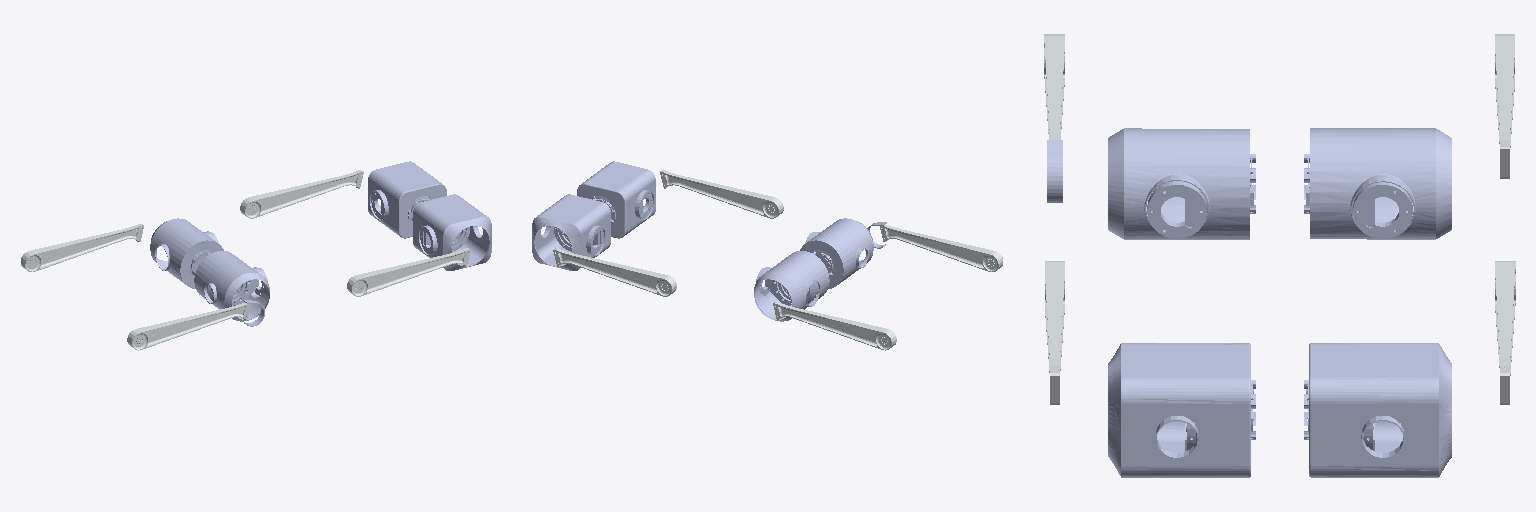
--- What the picture shows (computed from the rendered views, not written in the file) ---
3 views of the same robot in one strip: view 1: azimuth 30°, elevation 25°; view 2: azimuth 150°, elevation 25°; view 3: azimuth 270°, elevation 25° (orthographic).
Robot: stoch3_springv3 — 21 links, 20 joints (12 revolute, 4 prismatic, 4 fixed); root link base_link; default pose: all joints at 0.
Visible links, largest first — view 1: fr_abd_link, fl_abd_link, br_abd_link, bl_abd_link, fr_lower_leg_link, fl_lower_leg_link, bl_lower_leg_link, br_lower_leg_link; view 2: fl_abd_link, fr_abd_link, bl_abd_link, br_abd_link, fl_lower_leg_link, fr_lower_leg_link, bl_lower_leg_link, br_lower_leg_link; view 3: fl_abd_link, fr_abd_link, bl_abd_link, br_abd_link, fl_lower_leg_link, bl_lower_leg_link, fr_lower_leg_link, br_lower_leg_link, br_spring_link.
Link boxes in pixels (x1=…): fr_abd_link: x1=413, y1=194, x2=491, y2=270; fl_abd_link: x1=368, y1=161, x2=446, y2=238; br_abd_link: x1=194, y1=251, x2=269, y2=321; bl_abd_link: x1=150, y1=218, x2=223, y2=288; fr_lower_leg_link: x1=347, y1=248, x2=470, y2=296; fl_lower_leg_link: x1=240, y1=170, x2=363, y2=218; bl_lower_leg_link: x1=21, y1=224, x2=143, y2=271; br_lower_leg_link: x1=127, y1=303, x2=250, y2=350; fl_abd_link: x1=532, y1=194, x2=610, y2=270; fr_abd_link: x1=577, y1=161, x2=655, y2=238; bl_abd_link: x1=754, y1=251, x2=829, y2=321; br_abd_link: x1=800, y1=218, x2=873, y2=288; fl_lower_leg_link: x1=553, y1=248, x2=676, y2=296; fr_lower_leg_link: x1=660, y1=170, x2=783, y2=218; bl_lower_leg_link: x1=773, y1=302, x2=896, y2=350; br_lower_leg_link: x1=880, y1=224, x2=1002, y2=271; fl_abd_link: x1=1304, y1=343, x2=1451, y2=477; fr_abd_link: x1=1108, y1=343, x2=1255, y2=477; bl_abd_link: x1=1304, y1=128, x2=1451, y2=239; br_abd_link: x1=1108, y1=128, x2=1255, y2=239; fl_lower_leg_link: x1=1495, y1=261, x2=1515, y2=402; bl_lower_leg_link: x1=1495, y1=34, x2=1514, y2=176; fr_lower_leg_link: x1=1045, y1=261, x2=1064, y2=402; br_lower_leg_link: x1=1044, y1=34, x2=1064, y2=139; br_spring_link: x1=1047, y1=140, x2=1062, y2=202.
Bounding box of the posed robot: 0.9039 × 0.4576 × 0.1079 m (x, y, z).
13 mesh visuals loaded from 21 distinct referenced files (13 binary STL); not drawn: 8 (reference not matched to a file when rendering).

The robot description file, URDF, robot "stoch3_springv3":
<?xml version="1.0" encoding="utf-8"?>
<!-- This URDF was automatically created by SolidWorks to URDF Exporter! Originally created by Stephen Brawner ([email redacted]) 
     Commit Version: 1.5.1-0-g916b5db  Build Version: 1.5.7152.31018
     For more information, please see http://wiki.ros.org/sw_urdf_exporter -->
<robot
  name="stoch3_springv3">
  <link
    name="base_link">
    <inertial>
      <origin
        xyz="0 0 0.0026538"
        rpy="0 0 0" />
      <mass
        value="7.302" />
      <inertia
        ixx="0.0090197"
        ixy="2.2679E-06"
        ixz="6.4897E-05"
        iyy="0.0094033"
        iyz="-2.1628E-08"
        izz="0.01573" />
    </inertial>
    <visual>
      <origin
        xyz="0 0 0"
        rpy="0 0 0" />
      <geometry>
        <mesh
          filename="package://stoch3_springv3/meshes/base_link.STL" />
      </geometry>
      <material
        name="">
        <color
          rgba="0.75294 0.75294 0.75294 1" />
      </material>
    </visual>
    <collision>
      <origin
        xyz="0 0 0"
        rpy="0 0 0" />
      <geometry>
        <mesh
          filename="package://stoch3_springv3/meshes/base_link.STL" />
      </geometry>
    </collision>
  </link>

  <link
    name="fl_abd_link">
    <inertial>
      <origin
        xyz="0.070269 -0.036118 -2.5986E-07"
        rpy="0 0 0" />
      <mass
        value="0.978" />
      <inertia
        ixx="0.00045941"
        ixy="-6.723E-07"
        ixz="3.3247E-08"
        iyy="0.00059328"
        iyz="5.8809E-09"
        izz="0.00046214" />
    </inertial>
    <visual>
      <origin
        xyz="0 0 0"
        rpy="0 0 0" />
      <geometry>
        <mesh
          filename="package://stoch3_springv3/meshes/fl_abd_link.STL" />
      </geometry>
      <material
        name="">
        <color
          rgba="0.79216 0.81961 0.93333 1" />
      </material>
    </visual>
    <collision>
      <origin
        xyz="0 0 0"
        rpy="0 0 0" />
      <geometry>
        <mesh
          filename="package://stoch3_springv3/meshes/fl_abd_link.STL" />
      </geometry>
    </collision>
  </link>
  <joint
    name="fl_abd_joint"
    type="revolute">
    <origin
      xyz="0.18598 0.10004 -0.0005"
      rpy="0 0 0.00021134" />
    <parent
      link="base_link" />
    <child
      link="fl_abd_link" />
    <axis
      xyz="1 0 0" />
    <limit
      lower="-3.5708"
      upper="3.5708"
      effort="100"
      velocity="100" />
  </joint>
  <link
    name="fl_upper_leg_link">
    <inertial>
      <origin
        xyz="-0.072527 0.076425 1.3632E-05"
        rpy="0 0 0" />
      <mass
        value="1.547" />
      <inertia
        ixx="0.00031538"
        ixy="-4.0486E-06"
        ixz="-4.8939E-07"
        iyy="0.0031011"
        iyz="6.3718E-11"
        izz="0.0028703" />
    </inertial>
    <visual>
      <origin
        xyz="0 0 0"
        rpy="0 0 0" />
      <geometry>
        <mesh
          filename="package://stoch3_springv3/meshes/fl_upper_leg_link.STL" />
      </geometry>
      <material
        name="">
        <color
          rgba="0.79216 0.81961 0.93333 1" />
      </material>
    </visual>
    <collision>
      <origin
        xyz="0 0 0"
        rpy="0 0 0" />
      <geometry>
        <mesh
          filename="package://stoch3_springv3/meshes/fl_upper_leg_link.STL" />
      </geometry>
    </collision>
  </link>
  <joint
    name="fl_hip_joint"
    type="revolute">
    <origin
      xyz="0.074 -0.01975 0"
      rpy="0 0 0" />
    <parent
      link="fl_abd_link" />
    <child
      link="fl_upper_leg_link" />
    <axis
      xyz="0 -1 0" />
    <limit
      lower="-1.5708"
      upper="6.2832"
      effort="100"
      velocity="100" />
  </joint>
  <link
    name="fl_lower_leg_link">
    <inertial>
      <origin
        xyz="0.086252 5.8285E-07 0.0035444"
        rpy="0 0 0" />
      <mass
        value="0.185" />
      <inertia
        ixx="2.0675E-05"
        ixy="-2.4323E-09"
        ixz="-3.9572E-05"
        iyy="0.0010886"
        iyz="-8.8856E-10"
        izz="0.0010716" />
    </inertial>
    <visual>
      <origin
        xyz="0 0 0"
        rpy="0 0 0" />
      <geometry>
        <mesh
          filename="package://stoch3_springv3/meshes/fl_lower_leg_link.STL" />
      </geometry>
      <material
        name="">
        <color
          rgba="0.89804 0.91765 0.92941 1" />
      </material>
    </visual>
    <collision>
      <origin
        xyz="0 0 0"
        rpy="0 0 0" />
      <geometry>
        <mesh
          filename="package://stoch3_springv3/meshes/fl_lower_leg_link.STL" />
      </geometry>
    </collision>
  </link>
  <joint
    name="fl_knee_joint"
    type="revolute">
    <origin
      xyz="-0.297000000025889 0.1385 0"
      rpy="0 0 0" />
    <parent
      link="fl_upper_leg_link" />
    <child
      link="fl_lower_leg_link" />
    <axis
      xyz="0 1 0" />
    <limit
      lower="-6.28"
      upper="6.28"
      effort="100"
      velocity="100" />
  </joint>
  <link
    name="fl_spring_link">
    <inertial>
      <origin
        xyz="0.016432 -1.2088E-10 -0.025935"
        rpy="0 0 0" />
      <mass
        value="0.013" />
      <inertia
        ixx="1.5151E-06"
        ixy="3.6872E-16"
        ixz="7.9114E-08"
        iyy="2.0495E-06"
        iyz="-6.4647E-15"
        izz="6.6246E-07" />
    </inertial>
    <visual>
      <origin
        xyz="0 0 0"
        rpy="0 0 0" />
      <geometry>
        <mesh
          filename="package://stoch3_springv3/meshes/fl_spring_link.STL" />
      </geometry>
      <material
        name="">
        <color
          rgba="0.79216 0.81961 0.93333 1" />
      </material>
    </visual>
    <collision>
      <origin
        xyz="0 0 0"
        rpy="0 0 0" />
      <geometry>
        <mesh
          filename="package://stoch3_springv3/meshes/fl_spring_link.STL" />
      </geometry>
    </collision>
  </link>
  <joint
    name="fl_spring_joint"
    type="prismatic">
    <origin
      xyz="0.26294 0 0.022728"
      rpy="0 0 0" />
    <parent
      link="fl_lower_leg_link" />
    <child
      link="fl_spring_link" />
    <axis
      xyz="0.96487 0 -0.26274" />
    <limit
      lower="-0.05"
      upper="0"
      effort="100"
      velocity="100" />
  </joint>
  <link
    name="fl_end_effector_link">
    <inertial>
      <origin
        xyz="0.00030474 -7.6325E-12 -0.0016376"
        rpy="0 0 0" />
      <mass
        value="0.003" />
      <inertia
        ixx="1.2265E-09"
        ixy="1.4499E-19"
        ixz="3.1109E-11"
        iyy="3.2386E-10"
        iyz="4.7001E-18"
        izz="1.3323E-09" />
    </inertial>
    <visual>
      <origin
        xyz="0 0 0"
        rpy="0 0 0" />
      <geometry>
        <mesh
          filename="package://stoch3_springv3/meshes/fl_end_effector_link.STL" />
      </geometry>
      <material
        name="">
        <color
          rgba="0.79216 0.81961 0.93333 1" />
      </material>
    </visual>
    <collision>
      <origin
        xyz="0 0 0"
        rpy="0 0 0" />
      <geometry>
        <mesh
          filename="package://stoch3_springv3/meshes/fl_end_effector_link.STL" />
      </geometry>
    </collision>
  </link>
  <joint
    name="fl_end_effector_joint"
    type="fixed">
    <origin
      xyz="0.25316 0 -0.01044"
      rpy="0 0 0" />
    <parent
      link="fl_lower_leg_link" />
    <child
      link="fl_end_effector_link" />
    <axis
      xyz="0 0 0" />
  </joint>
  <link
    name="fr_abd_link">
    <inertial>
      <origin
        xyz="0.07027 0.036118 -2.957E-07"
        rpy="0 0 0" />
      <mass
        value="0.978" />
      <inertia
        ixx="0.00045941"
        ixy="6.965E-07"
        ixz="-3.3418E-08"
        iyy="0.00059328"
        iyz="-5.8773E-09"
        izz="0.00046214" />
    </inertial>
    <visual>
      <origin
        xyz="0 0 0"
        rpy="0 0 0" />
      <geometry>
        <mesh
          filename="package://stoch3_springv3/meshes/fr_abd_link.STL" />
      </geometry>
      <material
        name="">
        <color
          rgba="0.79216 0.81961 0.93333 1" />
      </material>
    </visual>
    <collision>
      <origin
        xyz="0 0 0"
        rpy="0 0 0" />
      <geometry>
        <mesh
          filename="package://stoch3_springv3/meshes/fr_abd_link.STL" />
      </geometry>
    </collision>
  </link>
  <joint
    name="fr_abd_joint"
    type="revolute">
    <origin
      xyz="0.18602 -0.099961 -0.0005"
      rpy="0 0 0.00021134" />
    <parent
      link="base_link" />
    <child
      link="fr_abd_link" />
    <axis
      xyz="1 0 0" />
    <limit
      lower="-3.5708"
      upper="3.5708"
      effort="100"
      velocity="100" />
  </joint>
  <link
    name="fr_upper_leg_link">
    <inertial>
      <origin
        xyz="-0.072527 -0.076425 -1.3632E-05"
        rpy="0 0 0" />
      <mass
        value="1.547" />
      <inertia
        ixx="0.00031538"
        ixy="4.0486E-06"
        ixz="4.8939E-07"
        iyy="0.0031011"
        iyz="6.3714E-11"
        izz="0.0028703" />
    </inertial>
    <visual>
      <origin
        xyz="0 0 0"
        rpy="0 0 0" />
      <geometry>
        <mesh
          filename="package://stoch3_springv3/meshes/fr_upper_leg_link.STL" />
      </geometry>
      <material
        name="">
        <color
          rgba="0.79216 0.81961 0.93333 1" />
      </material>
    </visual>
    <collision>
      <origin
        xyz="0 0 0"
        rpy="0 0 0" />
      <geometry>
        <mesh
          filename="package://stoch3_springv3/meshes/fr_upper_leg_link.STL" />
      </geometry>
    </collision>
  </link>
  <joint
    name="fr_hip_joint"
    type="revolute">
    <origin
      xyz="0.074 0.01975 0"
      rpy="0 0 0" />
    <parent
      link="fr_abd_link" />
    <child
      link="fr_upper_leg_link" />
    <axis
      xyz="0 -1 0" />
    <limit
      lower="-1.5708"
      upper="6.2832"
      effort="100"
      velocity="100" />
  </joint>
  <link
    name="fr_lower_leg_link">
    <inertial>
      <origin
        xyz="0.086252 5.8285E-07 0.0035444"
        rpy="0 0 0" />
      <mass
        value="0.185" />
      <inertia
        ixx="2.0675E-05"
        ixy="-2.4323E-09"
        ixz="-3.9572E-05"
        iyy="0.0010886"
        iyz="-8.8856E-10"
        izz="0.0010716" />
    </inertial>
    <visual>
      <origin
        xyz="0 0 0"
        rpy="0 0 0" />
      <geometry>
        <mesh
          filename="package://stoch3_springv3/meshes/fr_lower_leg_link.STL" />
      </geometry>
      <material
        name="">
        <color
          rgba="0.89804 0.91765 0.92941 1" />
      </material>
    </visual>
    <collision>
      <origin
        xyz="0 0 0"
        rpy="0 0 0" />
      <geometry>
        <mesh
          filename="package://stoch3_springv3/meshes/fr_lower_leg_link.STL" />
      </geometry>
    </collision>
  </link>
  <joint
    name="fr_knee_joint"
    type="revolute">
    <origin
      xyz="-0.297 -0.1385 0"
      rpy="0 0 0" />
    <parent
      link="fr_upper_leg_link" />
    <child
      link="fr_lower_leg_link" />
    <axis
      xyz="0 1 0" />
    <limit
      lower="-6.28"
      upper="6.28"
      effort="100"
      velocity="100" />
  </joint>
  <link
    name="fr_spring_link">
    <inertial>
      <origin
        xyz="0.016432 -1.2088E-10 -0.025935"
        rpy="0 0 0" />
      <mass
        value="0.013" />
      <inertia
        ixx="1.5151E-06"
        ixy="3.6872E-16"
        ixz="7.9114E-08"
        iyy="2.0495E-06"
        iyz="-6.4647E-15"
        izz="6.6246E-07" />
    </inertial>
    <visual>
      <origin
        xyz="0 0 0"
        rpy="0 0 0" />
      <geometry>
        <mesh
          filename="package://stoch3_springv3/meshes/fr_spring_link.STL" />
      </geometry>
      <material
        name="">
        <color
          rgba="0.79216 0.81961 0.93333 1" />
      </material>
    </visual>
    <collision>
      <origin
        xyz="0 0 0"
        rpy="0 0 0" />
      <geometry>
        <mesh
          filename="package://stoch3_springv3/meshes/fr_spring_link.STL" />
      </geometry>
    </collision>
  </link>
  <joint
    name="fr_spring_joint"
    type="prismatic">
    <origin
      xyz="0.26294023218503 0 0.0227277371882955"
      rpy="0 0 0" />
    <parent
      link="fr_lower_leg_link" />
    <child
      link="fr_spring_link" />
    <axis
      xyz="0.964866586334683 0 -0.262740310144551" />
    <limit
      lower="-0.05"
      upper="0"
      effort="100"
      velocity="100" />
  </joint>
  <link
    name="fr_end_effector_link">
    <inertial>
      <origin
        xyz="0.00030474 -7.6323E-12 -0.0016376"
        rpy="0 0 0" />
      <mass
        value="0.003" />
      <inertia
        ixx="1.2265E-09"
        ixy="1.4499E-19"
        ixz="3.1109E-11"
        iyy="3.2386E-10"
        iyz="4.7001E-18"
        izz="1.3323E-09" />
    </inertial>
    <visual>
      <origin
        xyz="0 0 0"
        rpy="0 0 0" />
      <geometry>
        <mesh
          filename="package://stoch3_springv3/meshes/fr_end_effector_link.STL" />
      </geometry>
      <material
        name="">
        <color
          rgba="0.79216 0.81961 0.93333 1" />
      </material>
    </visual>
    <collision>
      <origin
        xyz="0 0 0"
        rpy="0 0 0" />
      <geometry>
        <mesh
          filename="package://stoch3_springv3/meshes/fr_end_effector_link.STL" />
      </geometry>
    </collision>
  </link>
  <joint
    name="fr_end_effector_joint"
    type="fixed">
    <origin
      xyz="0.25316 0 -0.01044"
      rpy="0 0 0" />
    <parent
      link="fr_lower_leg_link" />
    <child
      link="fr_end_effector_link" />
    <axis
      xyz="0 0 0" />
  </joint>
  <link
    name="bl_abd_link">
    <inertial>
      <origin
        xyz="-0.069942 -0.037337 -1.868E-06"
        rpy="0 0 0" />
      <mass
        value="0.978" />
      <inertia
        ixx="0.00039025"
        ixy="3.5854E-08"
        ixz="1.1626E-07"
        iyy="0.00050148"
        iyz="5.3875E-09"
        izz="0.00037524" />
    </inertial>
    <visual>
      <origin
        xyz="0 0 0"
        rpy="0 0 0" />
      <geometry>
        <mesh
          filename="package://stoch3_springv3/meshes/bl_abd_link.STL" />
      </geometry>
      <material
        name="">
        <color
          rgba="0.79216 0.81961 0.93333 1" />
      </material>
    </visual>
    <collision>
      <origin
        xyz="0 0 0"
        rpy="0 0 0" />
      <geometry>
        <mesh
          filename="package://stoch3_springv3/meshes/bl_abd_link.STL" />
      </geometry>
    </collision>
  </link>
  <joint
    name="bl_abd_joint"
    type="revolute">
    <origin
      xyz="-0.18602 0.099961 -0.0005"
      rpy="0 0 0" />
    <parent
      link="base_link" />
    <child
      link="bl_abd_link" />
    <axis
      xyz="-1 -0.00021136 0" />
    <limit
      lower="-3.5708"
      upper="3.5708"
      effort="100"
      velocity="100" />
  </joint>
  <link
    name="bl_upper_leg_link">
    <inertial>
      <origin
        xyz="-0.072543 0.076409 1.3632E-05"
        rpy="0 0 0" />
      <mass
        value="1.547" />
      <inertia
        ixx="0.00031539"
        ixy="-4.6374E-06"
        ixz="-4.8939E-07"
        iyy="0.0031011"
        iyz="-3.9719E-11"
        izz="0.0028703" />
    </inertial>
    <visual>
      <origin
        xyz="0 0 0"
        rpy="0 0 0" />
      <geometry>
        <mesh
          filename="package://stoch3_springv3/meshes/bl_upper_leg_link.STL" />
      </geometry>
      <material
        name="">
        <color
          rgba="0.79216 0.81961 0.93333 1" />
      </material>
    </visual>
    <collision>
      <origin
        xyz="0 0 0"
        rpy="0 0 0" />
      <geometry>
        <mesh
          filename="package://stoch3_springv3/meshes/bl_upper_leg_link.STL" />
      </geometry>
    </collision>
  </link>
  <joint
    name="bl_hip_joint"
    type="revolute">
    <origin
      xyz="-0.073996 -0.019766 0"
      rpy="0 0 0" />
    <parent
      link="bl_abd_link" />
    <child
      link="bl_upper_leg_link" />
    <axis
      xyz="0.00021136 -1 0" />
    <limit
      lower="-1.5708"
      upper="6.2832"
      effort="100"
      velocity="100" />
  </joint>
  <link
    name="bl_lower_leg_link">
    <inertial>
      <origin
        xyz="0.086252 1.8813E-05 0.0035444"
        rpy="0 0 0" />
      <mass
        value="0.185" />
      <inertia
        ixx="2.0675E-05"
        ixy="-2.2814E-07"
        ixz="-3.9572E-05"
        iyy="0.0010886"
        iyz="-9.2525E-09"
        izz="0.0010716" />
    </inertial>
    <visual>
      <origin
        xyz="0 0 0"
        rpy="0 0 0" />
      <geometry>
        <mesh
          filename="package://stoch3_springv3/meshes/bl_lower_leg_link.STL" />
      </geometry>
      <material
        name="">
        <color
          rgba="0.89804 0.91765 0.92941 1" />
      </material>
    </visual>
    <collision>
      <origin
        xyz="0 0 0"
        rpy="0 0 0" />
      <geometry>
        <mesh
          filename="package://stoch3_springv3/meshes/bl_lower_leg_link.STL" />
      </geometry>
    </collision>
  </link>
  <joint
    name="bl_knee_joint"
    type="revolute">
    <origin
      xyz="-0.29703 0.13844 0"
      rpy="0 0 0" />
    <parent
      link="bl_upper_leg_link" />
    <child
      link="bl_lower_leg_link" />
    <axis
      xyz="-0.00021136 1 0" />
    <limit
      lower="-6.28"
      upper="6.28"
      effort="100"
      velocity="100" />
  </joint>
  <link
    name="bl_spring_link">
    <inertial>
      <origin
        xyz="0.016432 3.4731E-06 -0.025935"
        rpy="0 0 0" />
      <mass
        value="0.013" />
      <inertia
        ixx="1.5151E-06"
        ixy="-1.1295E-10"
        ixz="7.9114E-08"
        iyy="2.0495E-06"
        iyz="1.6715E-11"
        izz="6.6246E-07" />
    </inertial>
    <visual>
      <origin
        xyz="0 0 0"
        rpy="0 0 0" />
      <geometry>
        <mesh
          filename="package://stoch3_springv3/meshes/bl_spring_link.STL" />
      </geometry>
      <material
        name="">
        <color
          rgba="0.79216 0.81961 0.93333 1" />
      </material>
    </visual>
    <collision>
      <origin
        xyz="0 0 0"
        rpy="0 0 0" />
      <geometry>
        <mesh
          filename="package://stoch3_springv3/meshes/bl_spring_link.STL" />
      </geometry>
    </collision>
  </link>
  <joint
    name="bl_spring_joint"
    type="prismatic">
    <origin
      xyz="0.26294 5.5576E-05 0.022728"
      rpy="0 0 0" />
    <parent
      link="bl_lower_leg_link" />
    <child
      link="bl_spring_link" />
    <axis
      xyz="0.96487 0.00020393 -0.26274" />
    <limit
      lower="-0.05"
      upper="0"
      effort="100"
      velocity="100" />
  </joint>
  <link
    name="bl_end_effector_link">
    <inertial>
      <origin
        xyz="0.00030474 -7.6322E-12 -0.0016376"
        rpy="0 0 0" />
      <mass
        value="0.003" />
      <inertia
        ixx="1.2265E-09"
        ixy="1.4499E-19"
        ixz="3.1109E-11"
        iyy="3.2386E-10"
        iyz="4.7001E-18"
        izz="1.3323E-09" />
    </inertial>
    <visual>
      <origin
        xyz="0 0 0"
        rpy="0 0 0" />
      <geometry>
        <mesh
          filename="package://stoch3_springv3/meshes/bl_end_effector_link.STL" />
      </geometry>
      <material
        name="">
        <color
          rgba="0.79216 0.81961 0.93333 1" />
      </material>
    </visual>
    <collision>
      <origin
        xyz="0 0 0"
        rpy="0 0 0" />
      <geometry>
        <mesh
          filename="package://stoch3_springv3/meshes/bl_end_effector_link.STL" />
      </geometry>
    </collision>
  </link>
  <joint
    name="bl_end_effector_joint"
    type="fixed">
    <origin
      xyz="0.25316 5.3508E-05 -0.01044"
      rpy="0 0 0.00021136" />
    <parent
      link="bl_lower_leg_link" />
    <child
      link="bl_end_effector_link" />
    <axis
      xyz="0 0 0" />
  </joint>
  <link
    name="br_abd_link">
    <inertial>
      <origin
        xyz="-0.070181 0.037273 -1.5886E-07"
        rpy="0 0 0" />
      <mass
        value="0.978" />
      <inertia
        ixx="0.00038996"
        ixy="-9.3213E-07"
        ixz="-8.0337E-08"
        iyy="0.00050185"
        iyz="-1.1127E-09"
        izz="0.00037578" />
    </inertial>
    <visual>
      <origin
        xyz="0 0 0"
        rpy="0 0 0" />
      <geometry>
        <mesh
          filename="package://stoch3_springv3/meshes/br_abd_link.STL" />
      </geometry>
      <material
        name="">
        <color
          rgba="0.79216 0.81961 0.93333 1" />
      </material>
    </visual>
    <collision>
      <origin
        xyz="0 0 0"
        rpy="0 0 0" />
      <geometry>
        <mesh
          filename="package://stoch3_springv3/meshes/br_abd_link.STL" />
      </geometry>
    </collision>
  </link>
  <joint
    name="br_abd_joint"
    type="revolute">
    <origin
      xyz="-0.18598 -0.10004 -0.0005"
      rpy="0 0 0" />
    <parent
      link="base_link" />
    <child
      link="br_abd_link" />
    <axis
      xyz="-1 -0.00021136 0" />
    <limit
      lower="-3.5708"
      upper="3.5708"
      effort="100"
      velocity="100" />
  </joint>
  <link
    name="br_upper_leg_link">
    <inertial>
      <origin
        xyz="-0.072511 -0.07644 -1.3632E-05"
        rpy="0 0 0" />
      <mass
        value="1.547" />
      <inertia
        ixx="0.00031538"
        ixy="3.4598E-06"
        ixz="4.8939E-07"
        iyy="0.0031011"
        iyz="1.6716E-10"
        izz="0.0028703" />
    </inertial>
    <visual>
      <origin
        xyz="0 0 0"
        rpy="0 0 0" />
      <geometry>
        <mesh
          filename="package://stoch3_springv3/meshes/br_upper_leg_link.STL" />
      </geometry>
      <material
        name="">
        <color
          rgba="0.79216 0.81961 0.93333 1" />
      </material>
    </visual>
    <collision>
      <origin
        xyz="0 0 0"
        rpy="0 0 0" />
      <geometry>
        <mesh
          filename="package://stoch3_springv3/meshes/br_upper_leg_link.STL" />
      </geometry>
    </collision>
  </link>
  <joint
    name="br_hip_joint"
    type="revolute">
    <origin
      xyz="-0.074004 0.019734 0"
      rpy="0 0 0" />
    <parent
      link="br_abd_link" />
    <child
      link="br_upper_leg_link" />
    <axis
      xyz="0 -1 0" />
    <limit
      lower="-1.5708"
      upper="6.2832"
      effort="100"
      velocity="100" />
  </joint>
  <link
    name="br_lower_leg_link">
    <inertial>
      <origin
        xyz="0.086252 1.8813E-05 0.0035444"
        rpy="0 0 0" />
      <mass
        value="0.185" />
      <inertia
        ixx="2.0675E-05"
        ixy="-2.2814E-07"
        ixz="-3.9572E-05"
        iyy="0.0010886"
        iyz="-9.2525E-09"
        izz="0.0010716" />
    </inertial>
    <visual>
      <origin
        xyz="0 0 0"
        rpy="0 0 0" />
      <geometry>
        <mesh
          filename="package://stoch3_springv3/meshes/br_lower_leg_link.STL" />
      </geometry>
      <material
        name="">
        <color
          rgba="0.89804 0.91765 0.92941 1" />
      </material>
    </visual>
    <collision>
      <origin
        xyz="0 0 0"
        rpy="0 0 0" />
      <geometry>
        <mesh
          filename="package://stoch3_springv3/meshes/br_lower_leg_link.STL" />
      </geometry>
    </collision>
  </link>
  <joint
    name="br_knee_joint"
    type="revolute">
    <origin
      xyz="-0.29697 -0.13856 0"
      rpy="0 0 0" />
    <parent
      link="br_upper_leg_link" />
    <child
      link="br_lower_leg_link" />
    <axis
      xyz="0 1 0" />
    <limit
      lower="-6.28"
      upper="6.28"
      effort="100"
      velocity="100" />
  </joint>
  <link
    name="br_spring_link">
    <inertial>
      <origin
        xyz="0.016432 -1.2088E-10 -0.025935"
        rpy="0 0 0" />
      <mass
        value="0.013" />
      <inertia
        ixx="1.5151E-06"
        ixy="3.6872E-16"
        ixz="7.9114E-08"
        iyy="2.0495E-06"
        iyz="-6.4647E-15"
        izz="6.6246E-07" />
    </inertial>
    <visual>
      <origin
        xyz="0 0 0"
        rpy="0 0 0" />
      <geometry>
        <mesh
          filename="package://stoch3_springv3/meshes/br_spring_link.STL" />
      </geometry>
      <material
        name="">
        <color
          rgba="0.79216 0.81961 0.93333 1" />
      </material>
    </visual>
    <collision>
      <origin
        xyz="0 0 0"
        rpy="0 0 0" />
      <geometry>
        <mesh
          filename="package://stoch3_springv3/meshes/br_spring_link.STL" />
      </geometry>
    </collision>
  </link>
  <joint
    name="br_spring_joint"
    type="prismatic">
    <origin
      xyz="0.26294 5.5576E-05 0.022728"
      rpy="0 0 0.00021136" />
    <parent
      link="br_lower_leg_link" />
    <child
      link="br_spring_link" />
    <axis
      xyz="0.96487 0 -0.26274" />
    <limit
      lower="-0.05"
      upper="0"
      effort="100"
      velocity="100" />
  </joint>
  <link
    name="br_end_effector_link">
    <inertial>
      <origin
        xyz="0.00030474 -7.6324E-12 -0.0016376"
        rpy="0 0 0" />
      <mass
        value="0.003" />
      <inertia
        ixx="1.2265E-09"
        ixy="1.4499E-19"
        ixz="3.1109E-11"
        iyy="3.2386E-10"
        iyz="4.7001E-18"
        izz="1.3323E-09" />
    </inertial>
    <visual>
      <origin
        xyz="0 0 0"
        rpy="0 0 0" />
      <geometry>
        <mesh
          filename="package://stoch3_springv3/meshes/br_end_effector_link.STL" />
      </geometry>
      <material
        name="">
        <color
          rgba="0.79216 0.81961 0.93333 1" />
      </material>
    </visual>
    <collision>
      <origin
        xyz="0 0 0"
        rpy="0 0 0" />
      <geometry>
        <mesh
          filename="package://stoch3_springv3/meshes/br_end_effector_link.STL" />
      </geometry>
    </collision>
  </link>
  <joint
    name="br_end_effector_joint"
    type="fixed">
    <origin
      xyz="0.25316 5.3508E-05 -0.01044"
      rpy="0 0 0.00021136" />
    <parent
      link="br_lower_leg_link" />
    <child
      link="br_end_effector_link" />
    <axis
      xyz="0 0 0" />
  </joint>
</robot>
